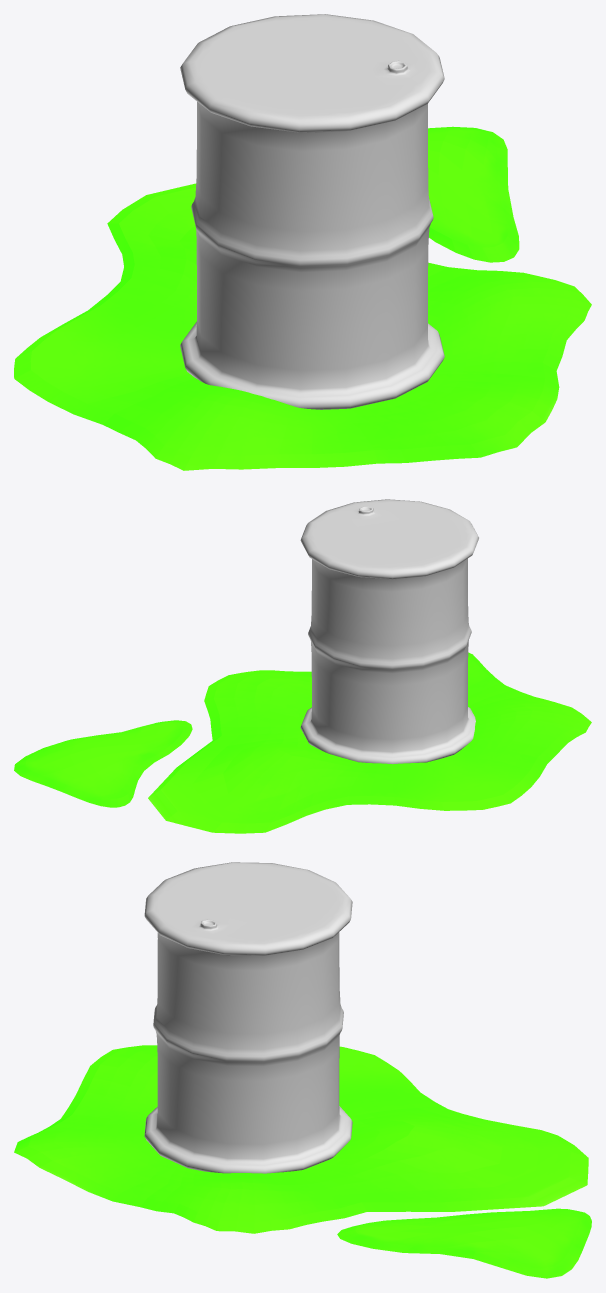
File: BIDON_CON_TEXTURA.fbx
3 renders of one model, top to bottom at view 1: azimuth 30°, elevation 25°; view 2: azimuth 150°, elevation 25°; view 3: azimuth 270°, elevation 25°, orthographic. The views are drawn at different scales.
Visible parts, largest first — view 1: Bidon, Circle; view 2: Circle, Bidon; view 3: Circle, Bidon.
Part boxes in pixels (box(x1,y1,x2,y2)): Bidon: box(180, 14, 444, 409); Circle: box(14, 126, 591, 470); Circle: box(14, 652, 591, 833); Bidon: box(300, 499, 478, 764); Circle: box(14, 1045, 591, 1278); Bidon: box(144, 862, 352, 1173).
Size of the model in its own units: 328 by 156 by 340.
